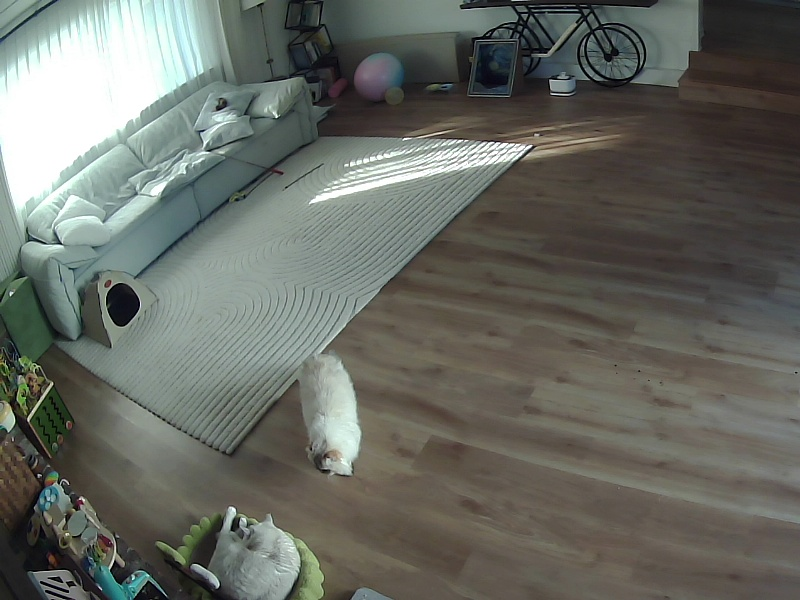Qb-2: (190, 506, 300, 599)
Qbo-2: (299, 352, 360, 475)
